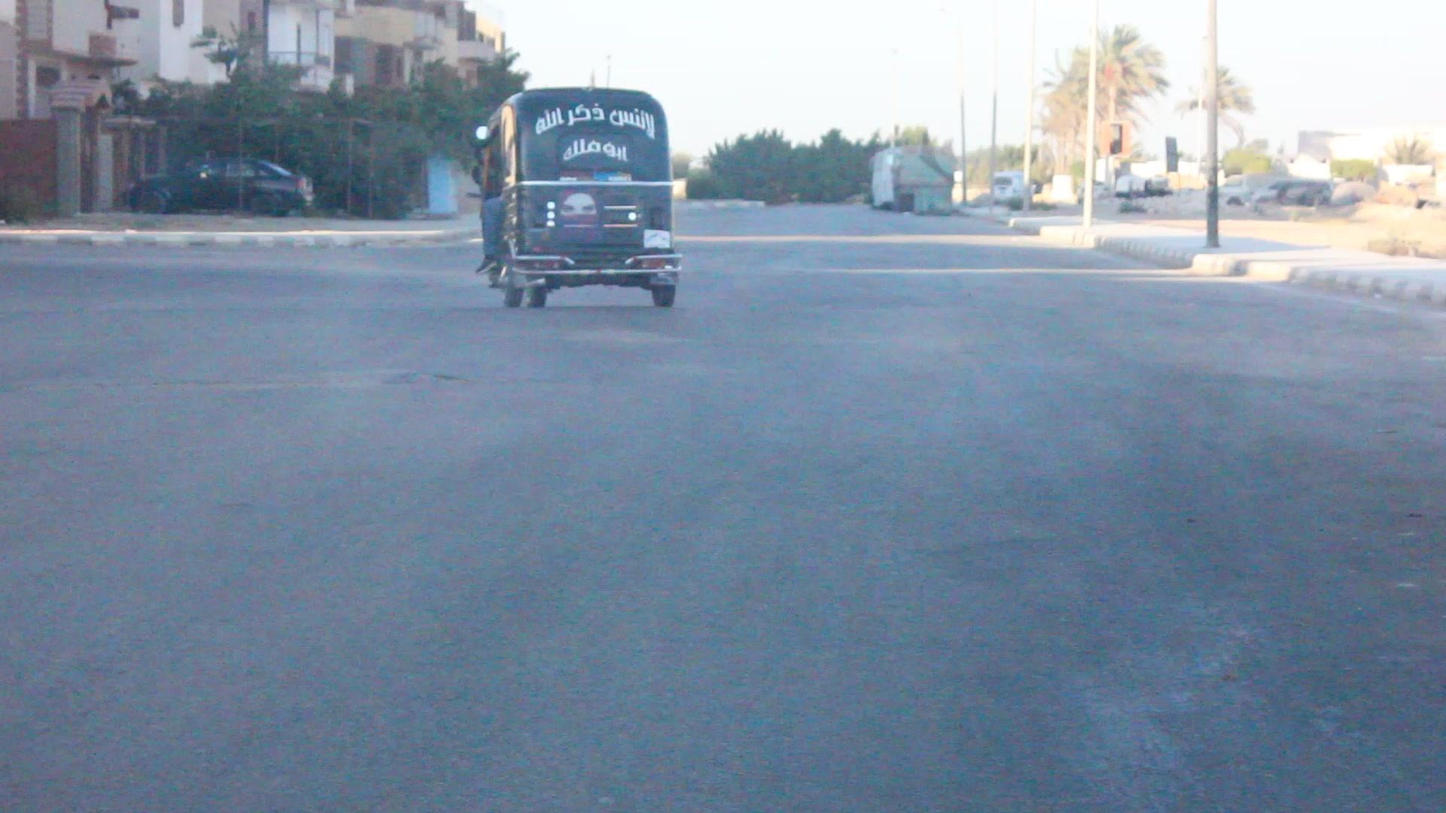Bump: (6, 297, 1446, 386)
